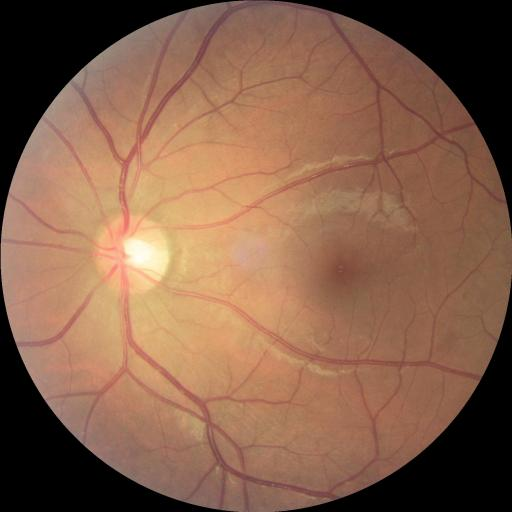Optic Cup: (118, 238, 153, 269)
Optic Disc: (95, 215, 171, 292)
